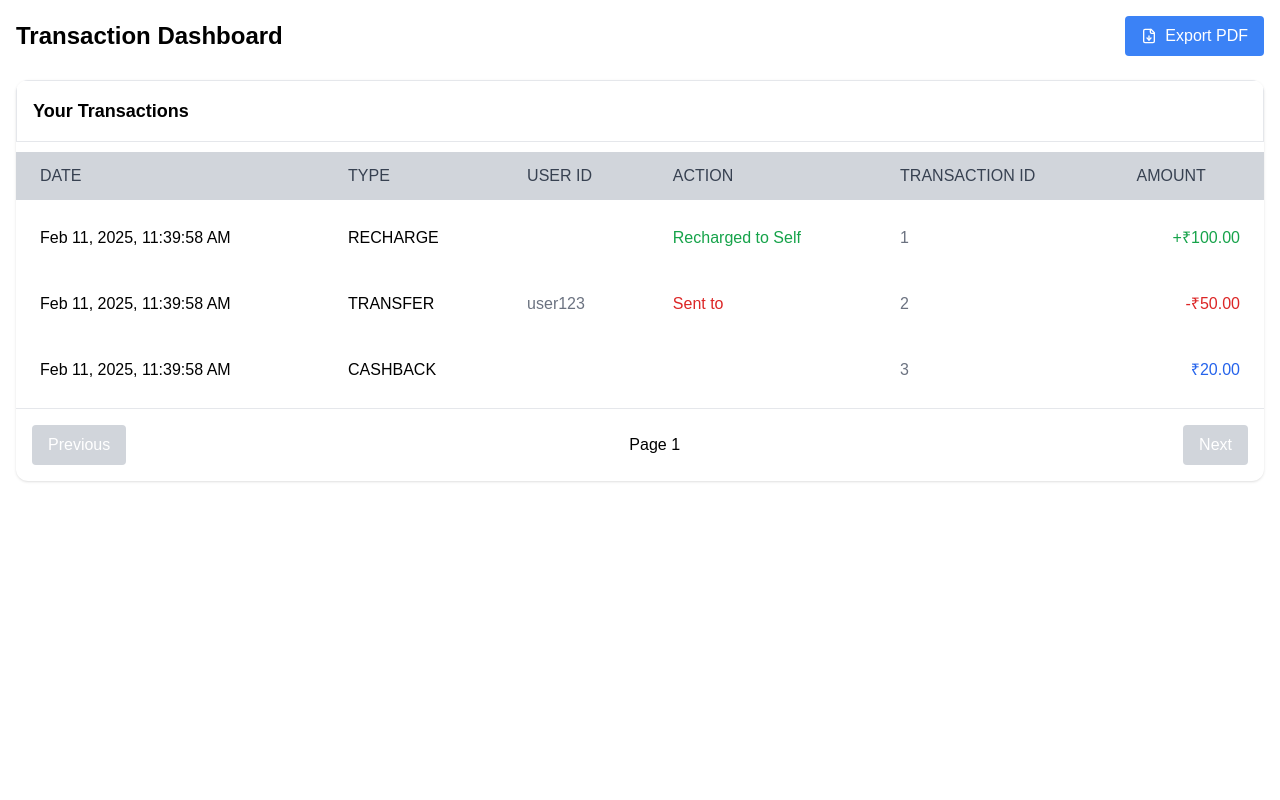
Test case: TransactionsView Component › shows transaction details in a modal on row click
Click the 2nd row. click: x=640, y=238
box: [16,210,1264,266]
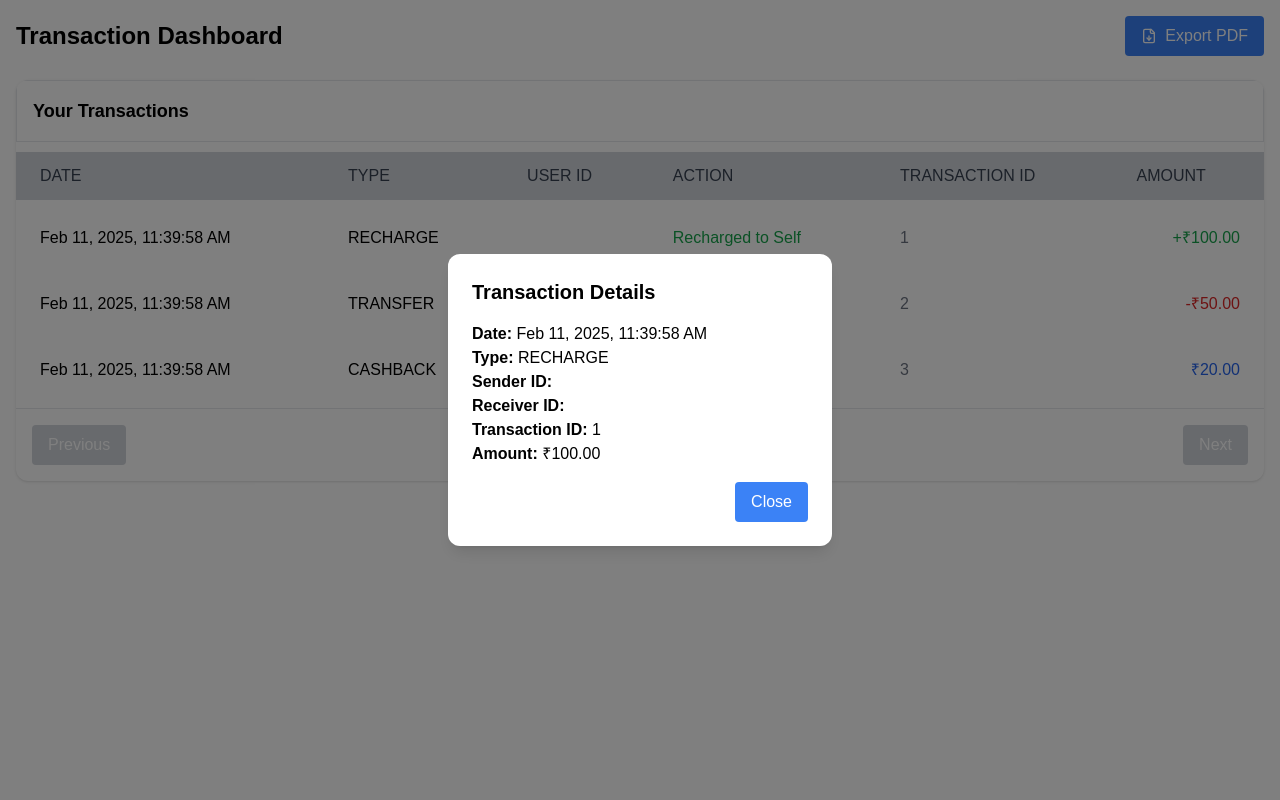
Expected: the heading "Transaction Details" is shown, [472,281,655,303]
Expected: the text "Type:" is shown, [472,349,514,366]
Expected: the text "Transaction ID:" is shown, [472,421,588,438]
